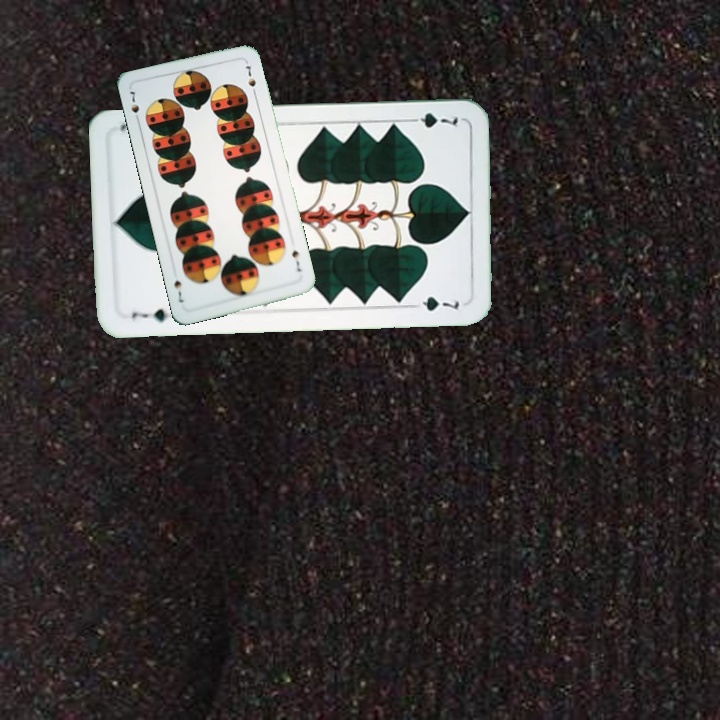G7: (403, 109, 460, 131), (128, 305, 179, 324)
S7: (126, 87, 142, 126), (288, 246, 304, 274)
